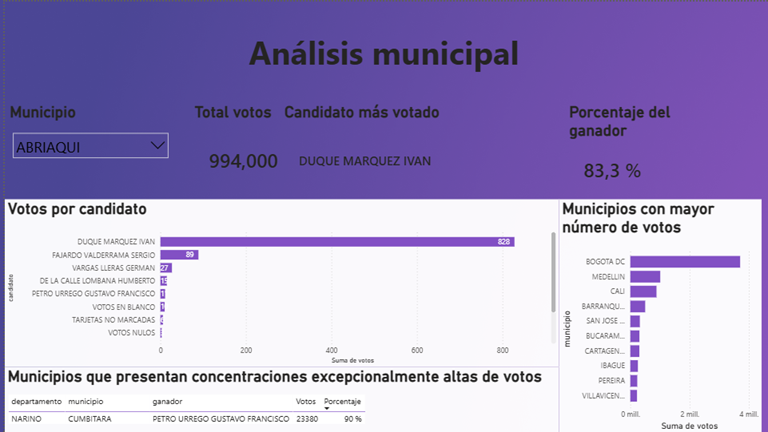

This screenshot's page, from the dashboard's own definition file:
{"tool":"powerbi","page":{"name":"Análisis municipal","canvas":[1280,720],"ordinal":1},"visuals":[{"type":"barChart","title":"Municipios con mayor número de votos","fields":{"Category":["votos_por_municipio.municipio"],"Y":["Sum(votos_por_municipio.votos)"]},"box":[924.9,329.3,337.6,391.1],"z":0},{"type":"slicer","title":"Municipio","fields":{"Values":["DimMunicipio.Municipio"]},"box":[4.1,168.8,279.9,93.3],"z":1000},{"type":"barChart","title":"Votos por candidato","fields":{"Category":["resultados_municipio_candidato.candidato"],"Y":["Sum(resultados_municipio_candidato.votos)"]},"box":[0,329.3,924.9,279.9],"z":2000},{"type":"tableEx","title":"Municipios que presentan concentraciones excepcionalmente altas de votos","fields":{"Values":["concentracion_municipal_extrema.departamento","concentracion_municipal_extrema.municipio","concentracion_municipal_extrema.ganador","Sum(concentracion_municipal_extrema.votos_ganador)","Sum(concentracion_municipal_extrema.porcentaje_ganador)"]},"box":[0,609.3,924.9,111.1],"z":3000},{"type":"cardVisual","title":"Total votos","fields":{"Data":["Sum(resultados_municipio_candidato.votos)"]},"box":[311.5,168.8,280,150],"z":4000},{"type":"cardVisual","title":"Candidato más votado","fields":{"Data":["resultados_municipio_candidato.Candidato más votado municipio"]},"box":[462.4,168.8,474.8,149.6],"z":5000},{"type":"cardVisual","title":"Porcentaje del ganador","fields":{"Data":["resultados_municipio_candidato.Porcentaje ganador municipio"]},"box":[937.2,168.8,280,150],"z":6000},{"type":"textbox","box":[4.1,42.5,1258.3,91.9],"z":7000}]}

Visuals, with their boxes in screenshot pixels (x1, y1, x2, y2), scaled from the page's 1280x720 canvas onto the 768x432 screenshot:
"Municipios con mayor número de votos" barChart: (x1=555, y1=198, x2=758, y2=431)
"Municipio" slicer: (x1=2, y1=101, x2=170, y2=157)
"Votos por candidato" barChart: (x1=0, y1=198, x2=555, y2=366)
"Municipios que presentan concentraciones excepcionalmente altas de votos" tableEx: (x1=0, y1=366, x2=555, y2=431)
"Total votos" cardVisual: (x1=187, y1=101, x2=355, y2=191)
"Candidato más votado" cardVisual: (x1=277, y1=101, x2=562, y2=191)
"Porcentaje del ganador" cardVisual: (x1=562, y1=101, x2=730, y2=191)
textbox: (x1=2, y1=26, x2=757, y2=81)
